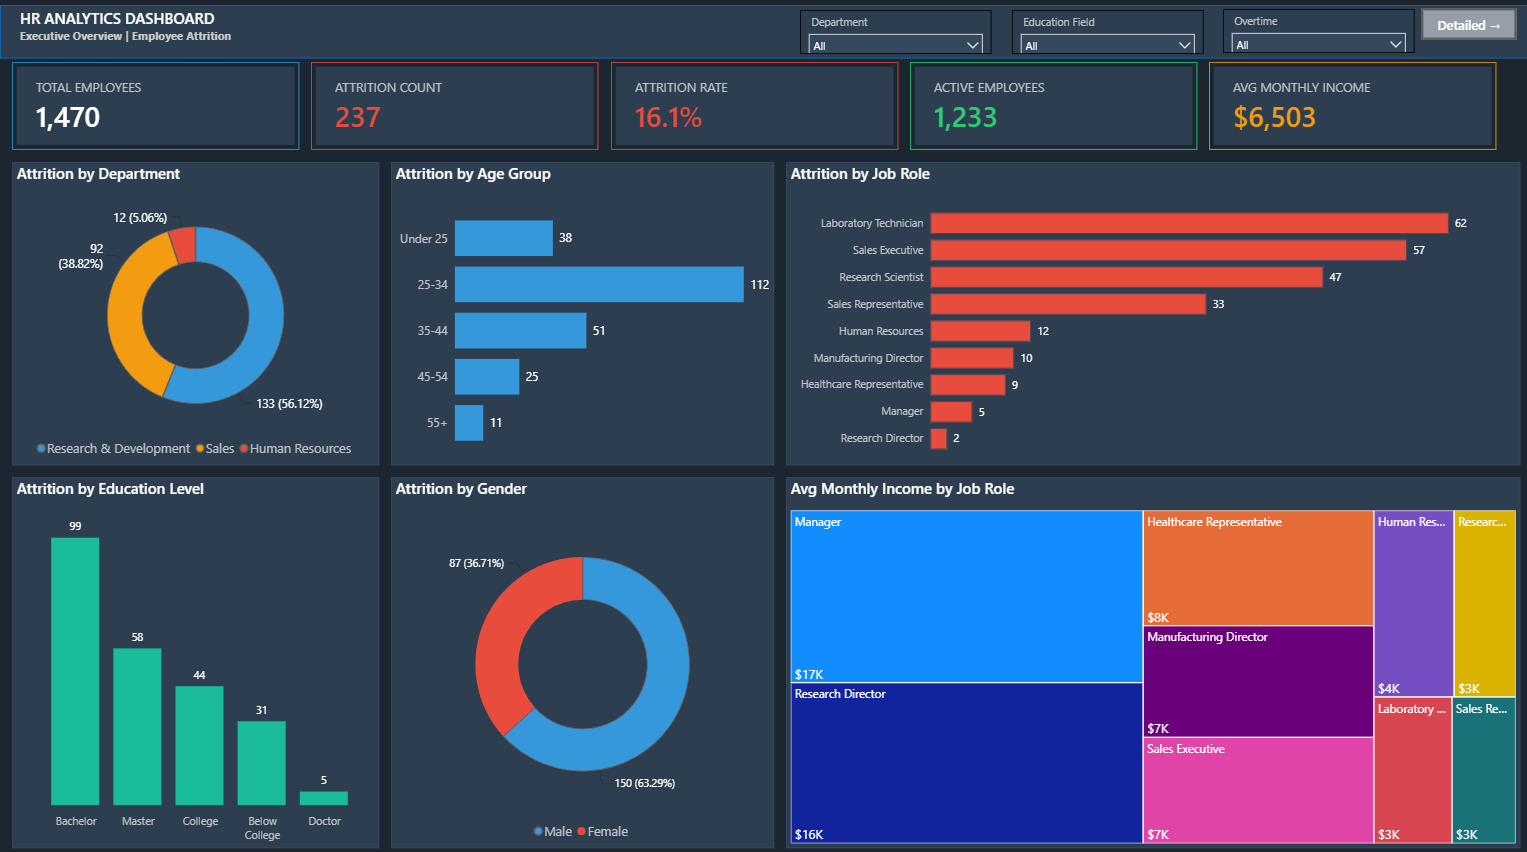

The dashboard page shown, as its layout file describes it:
{"tool":"powerbi","page":{"name":"Executive Overview","canvas":[1920,1080],"ordinal":0},"visuals":[{"type":"shape","box":[0,8.8,1920,67],"z":0},{"type":"cardVisual","fields":{"Data":["_measures.total_employees"]},"box":[15,80,360,110],"z":1000},{"type":"cardVisual","fields":{"Data":["_measures.attrition_count"]},"box":[390,80,360,110],"z":2000},{"type":"cardVisual","fields":{"Data":["_measures.attrition_rate"]},"box":[765,80,360,110],"z":3000},{"type":"cardVisual","fields":{"Data":["_measures.avg_monthly_income"]},"box":[1515,80,360,110],"z":4000},{"type":"cardVisual","fields":{"Data":["_measures.active_employees"]},"box":[1140,80,360,110],"z":5000},{"type":"donutChart","title":"Attrition by Department","fields":{"Category":["dim_job.department"],"Y":["_measures.attrition_count"]},"box":[15,205,460,380],"z":6000},{"type":"clusteredBarChart","title":"Attrition by Age Group","fields":{"Y":["_measures.attrition_count"],"Category":["dim_employee.age_group"]},"box":[490,205,480,380],"z":7000},{"type":"clusteredBarChart","title":"Attrition by Job Role","fields":{"Category":["dim_job.job_role"],"Y":["_measures.attrition_count"]},"box":[985,205,920,380],"z":8000},{"type":"clusteredColumnChart","title":"Attrition by Education Level","fields":{"Category":["dim_education.education_level"],"Y":["_measures.attrition_count"]},"box":[15,600,460,465],"z":9000},{"type":"donutChart","title":"Attrition by Gender","fields":{"Category":["dim_employee.gender"],"Y":["_measures.attrition_count"]},"box":[490,600,480,465],"z":10000},{"type":"treemap","title":"Avg Monthly Income by Job Role","fields":{"Group":["dim_job.job_role"],"Values":["_measures.avg_monthly_income"]},"box":[985,600,920,465],"z":11000},{"type":"slicer","fields":{"Values":["dim_job.department"]},"box":[1002.3,14.6,240,55],"z":12000},{"type":"slicer","fields":{"Values":["dim_employee.education_field"]},"box":[1267.8,14.6,240,55],"z":13000},{"type":"slicer","fields":{"Values":["dim_employee.over_time"]},"box":[1532.5,14,240,55],"z":14000},{"type":"textbox","box":[20,8,550,55],"z":15000},{"type":"actionButton","box":[1780,12,120,40],"z":15001}]}

Visuals, with their boxes in screenshot pixels (x1, y1, x2, y2), scaled from the page's 1920x1080 canvas onto the 1527x852 screenshot:
shape: pyautogui.locateOnScreen(0, 7, 1526, 60)
cardVisual - _measures.total_employees: pyautogui.locateOnScreen(12, 63, 298, 150)
cardVisual - _measures.attrition_count: pyautogui.locateOnScreen(310, 63, 596, 150)
cardVisual - _measures.attrition_rate: pyautogui.locateOnScreen(608, 63, 895, 150)
cardVisual - _measures.avg_monthly_income: pyautogui.locateOnScreen(1205, 63, 1491, 150)
cardVisual - _measures.active_employees: pyautogui.locateOnScreen(907, 63, 1193, 150)
"Attrition by Department" donutChart: pyautogui.locateOnScreen(12, 162, 378, 462)
"Attrition by Age Group" clusteredBarChart: pyautogui.locateOnScreen(390, 162, 771, 462)
"Attrition by Job Role" clusteredBarChart: pyautogui.locateOnScreen(783, 162, 1515, 462)
"Attrition by Education Level" clusteredColumnChart: pyautogui.locateOnScreen(12, 473, 378, 840)
"Attrition by Gender" donutChart: pyautogui.locateOnScreen(390, 473, 771, 840)
"Avg Monthly Income by Job Role" treemap: pyautogui.locateOnScreen(783, 473, 1515, 840)
slicer - dim_job.department: pyautogui.locateOnScreen(797, 12, 988, 55)
slicer - dim_employee.education_field: pyautogui.locateOnScreen(1008, 12, 1199, 55)
slicer - dim_employee.over_time: pyautogui.locateOnScreen(1219, 11, 1410, 54)
textbox: pyautogui.locateOnScreen(16, 6, 453, 50)
actionButton: pyautogui.locateOnScreen(1416, 9, 1511, 41)
